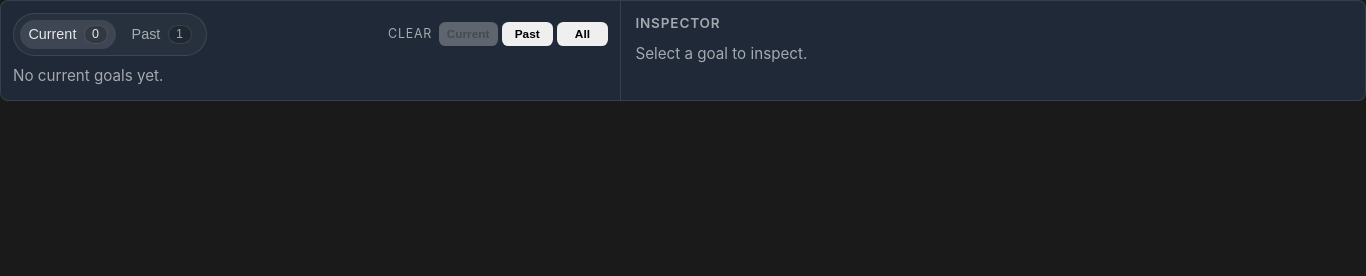
Test: GoalsPanel › past goal groups are collapsed by default and can be expanded/collapsed
Click the tab with test id "goals-tab-filter-past".
click(162, 34)  # box [123,20,200,49]
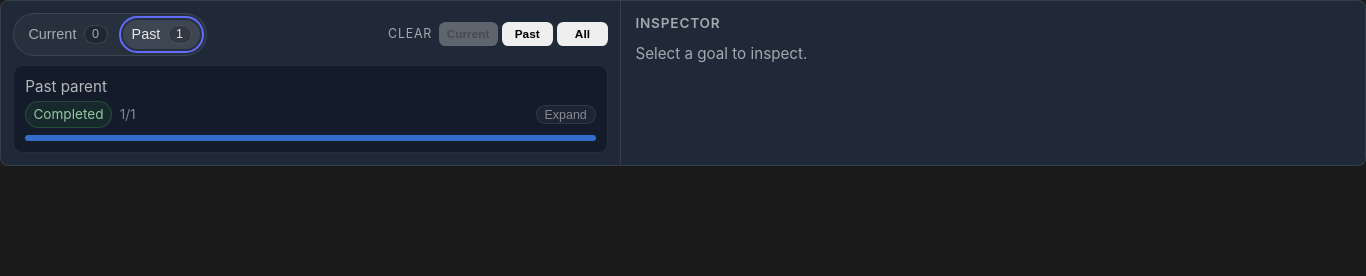
Check: the text "Past child" is not shown
Check: the text "Past parent" is shown, box [25,77,107,96]
Click the button with test id "goals-past-toggle-30".
click(566, 114)  # box [536,105,596,124]
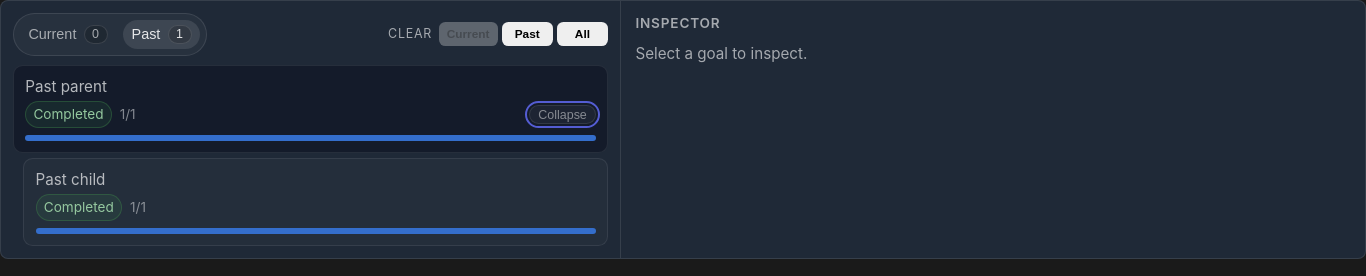
Check: the text "Past child" is shown, box [36,170,105,188]
Click the button with test id "goals-past-toggle-30".
click(563, 114)  # box [529,105,596,124]
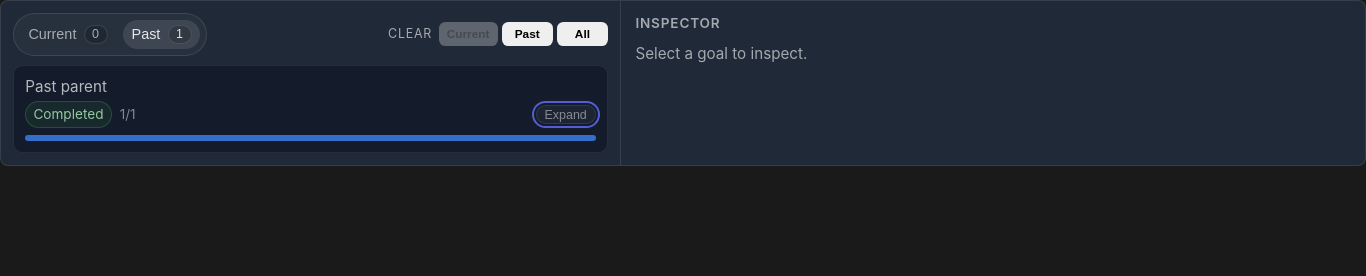
Check: the button "Past child" is gone
